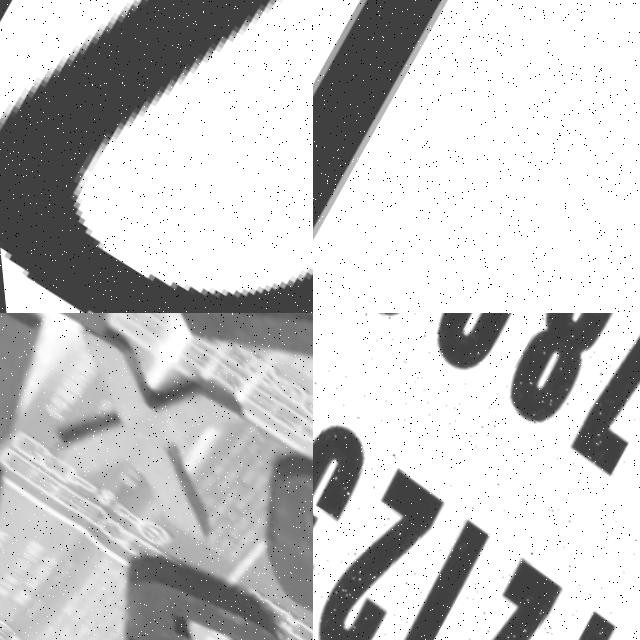1: (323, 498, 530, 640)
2: (313, 450, 474, 640)
3: (313, 399, 408, 640)
6: (577, 313, 640, 553)
7: (505, 313, 640, 514)
8: (442, 313, 640, 464)
9: (361, 313, 615, 417)
G: (51, 526, 313, 640)
J: (313, 0, 598, 313)
N: (0, 0, 313, 313)
O: (213, 431, 313, 640)
U: (79, 313, 313, 424)
X: (8, 313, 267, 545)
